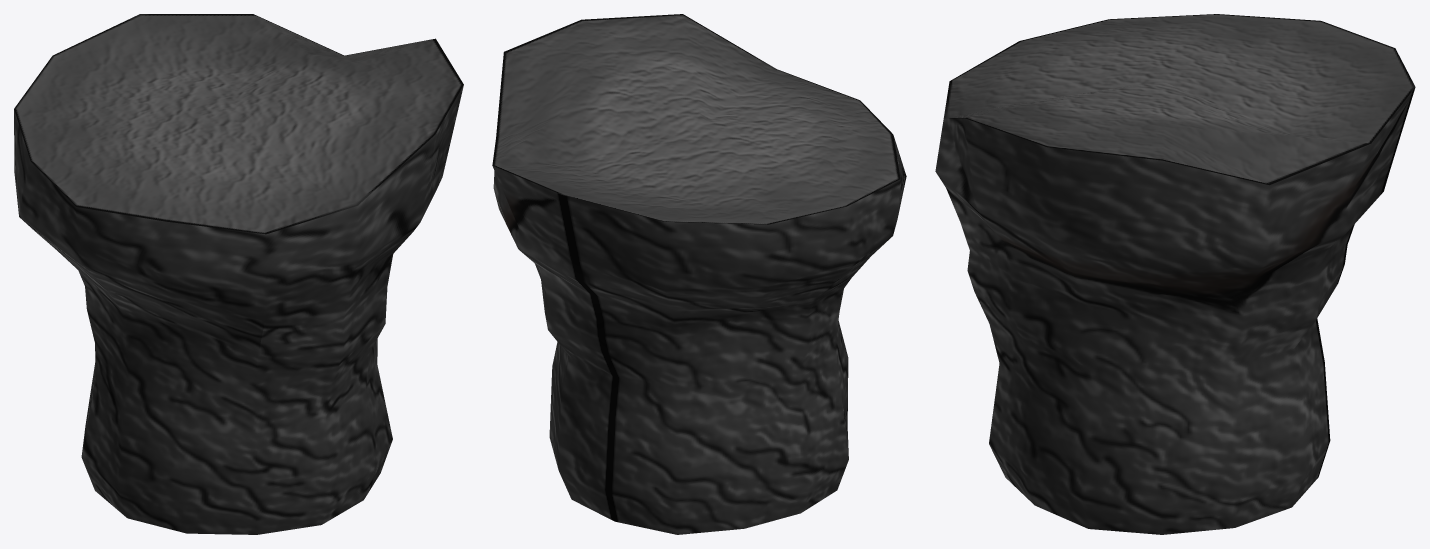
File: TallRock4.fbx
3 views of the same model, side by side, from view 1: azimuth 30°, elevation 25°; view 2: azimuth 150°, elevation 25°; view 3: azimuth 270°, elevation 25° (orthographic). The views are drawn at different scales.
Parts seen in each view (by area): view 1: TallRock4; view 2: TallRock4; view 3: TallRock4.
Boxes of the visible parts, left/top/right/bottom form: TallRock4: left=14, top=14, right=463, bottom=534; TallRock4: left=492, top=14, right=906, bottom=534; TallRock4: left=935, top=14, right=1415, bottom=534.
Size of the model in its own units: 331 by 314 by 329.
1 material, 1 textured.
